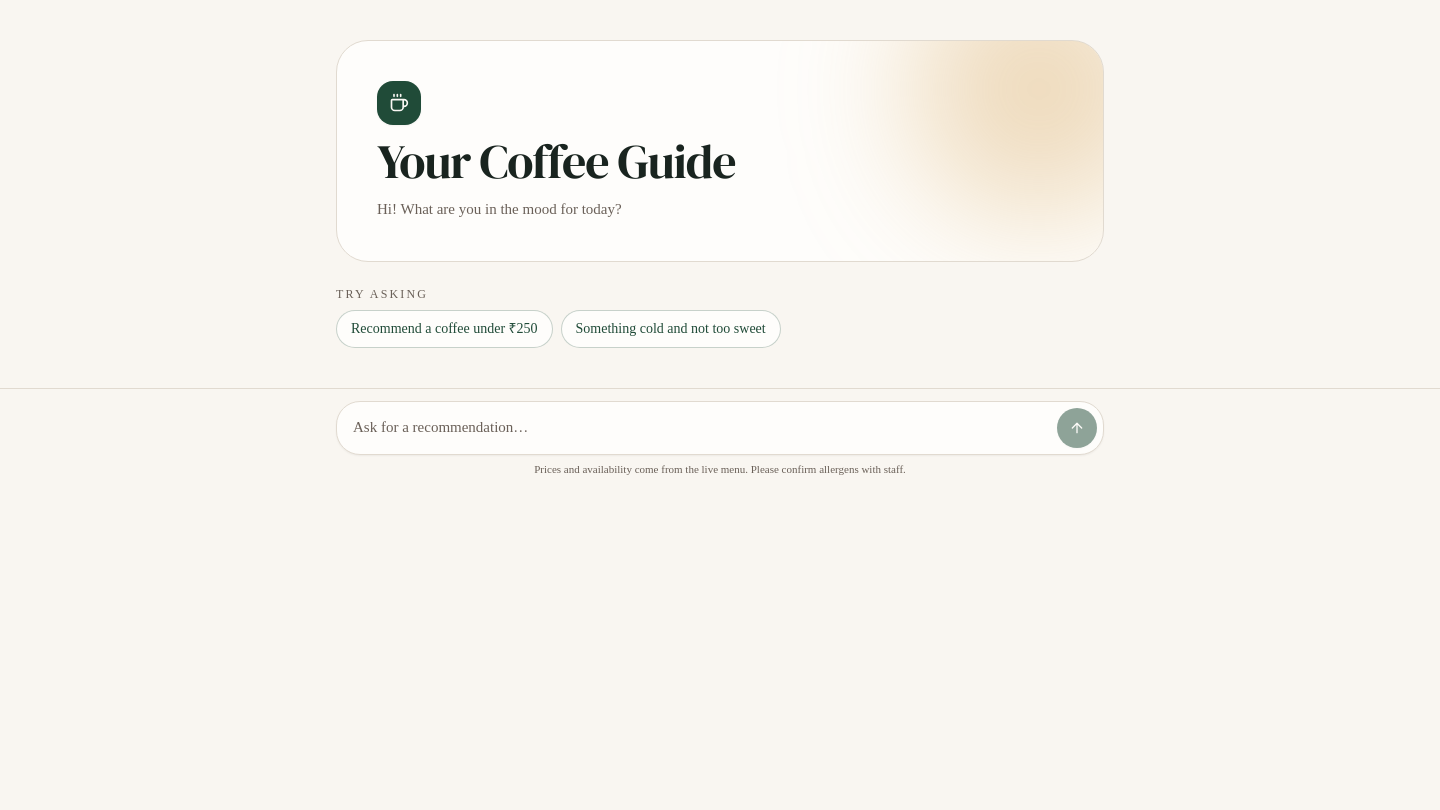
Scenario: Chat › disables adding unavailable items
Click the button "Recommend a coffee under ₹250": (444, 329) [336,310,553,348]
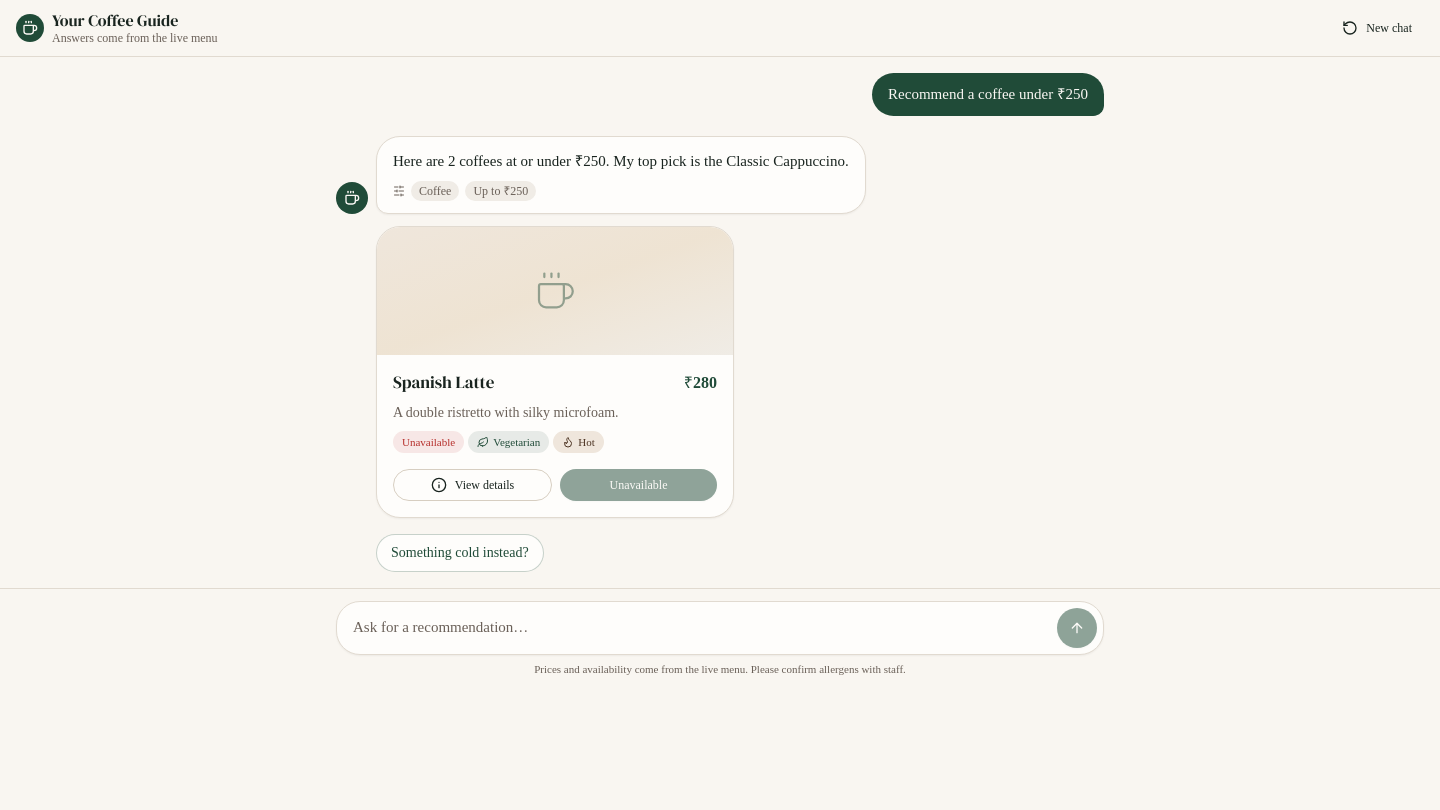
Expected: the button with aria-label "Spanish Latte is unavailable" is disabled, [560,469,717,501]
Expected: the text "Unavailable" is shown, [393,431,464,453]
